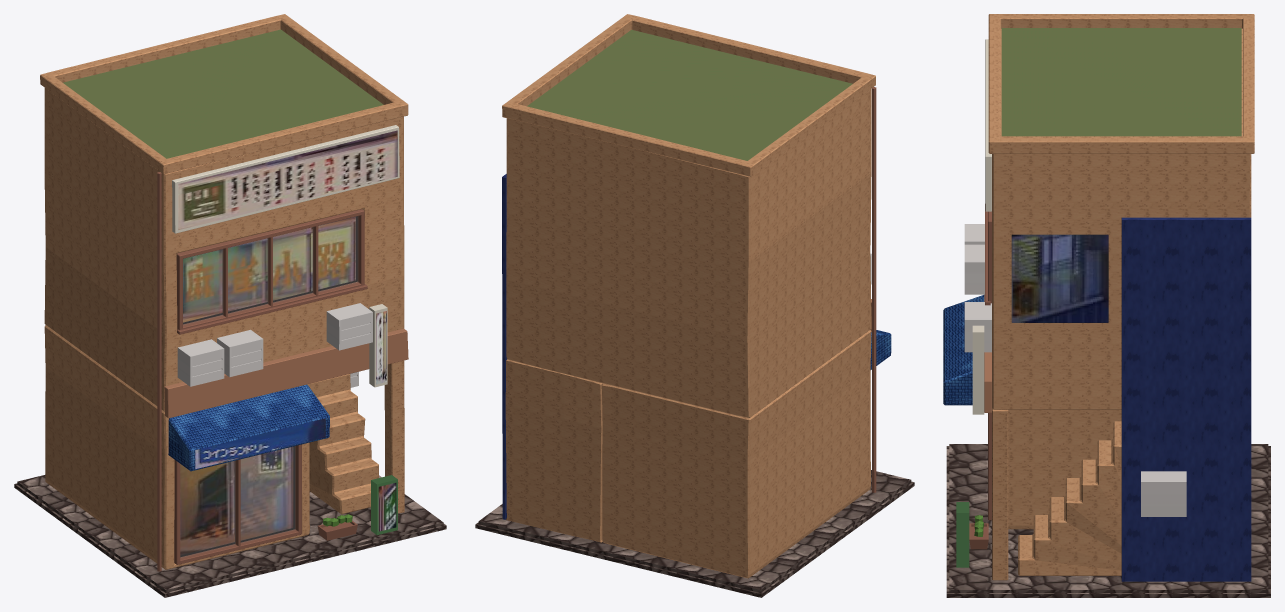
Rendered from laundry.glb.
3 renders of one model, left to right at view 1: azimuth 30°, elevation 25°; view 2: azimuth 150°, elevation 25°; view 3: azimuth 270°, elevation 25°, orthographic. The views are drawn at different scales.
Visible parts, largest first — view 1: laundry_upper_shell, laundry_roof_pad, laundry_gf_shell, laundry_platform, laundry_coping, laundry_top_sign_art, laundry_mahjong_art, laundry_laundry_interior_art, laundry_mahjong_glass, laundry_laundry_glass, laundry_fascia, laundry_stairs (+15 smaller); view 2: laundry_upper_shell, laundry_gf_shell, laundry_roof_pad, laundry_gf_back, laundry_coping, laundry_platform, laundry_downpipe, laundry_side_cladding; view 3: laundry_side_cladding, laundry_upper_shell, laundry_roof_pad, laundry_platform, laundry_coping, laundry_stairs, laundry_gf_shell, laundry_side_window_art, laundry_corner_pillar, laundry_awning, laundry_ac_side, laundry_vert_sign (+8 smaller).
Part boxes in pixels (x1=…): laundry_upper_shell: x1=44, y1=88, x2=404, y2=411; laundry_roof_pad: x1=63, y1=29, x2=383, y2=158; laundry_gf_shell: x1=44, y1=325, x2=310, y2=569; laundry_platform: x1=14, y1=475, x2=446, y2=597; laundry_coping: x1=40, y1=14, x2=408, y2=174; laundry_top_sign_art: x1=178, y1=130, x2=397, y2=229; laundry_mahjong_art: x1=183, y1=216, x2=355, y2=322; laundry_laundry_interior_art: x1=180, y1=446, x2=293, y2=555; laundry_mahjong_glass: x1=183, y1=217, x2=357, y2=324; laundry_laundry_glass: x1=181, y1=446, x2=295, y2=557; laundry_fascia: x1=164, y1=328, x2=408, y2=418; laundry_stairs: x1=309, y1=374, x2=378, y2=514; laundry_upper_shell: x1=506, y1=88, x2=871, y2=417; laundry_gf_shell: x1=601, y1=330, x2=871, y2=578; laundry_roof_pad: x1=527, y1=29, x2=852, y2=160; laundry_gf_back: x1=505, y1=359, x2=602, y2=542; laundry_coping: x1=502, y1=14, x2=875, y2=176; laundry_platform: x1=475, y1=470, x2=914, y2=597; laundry_downpipe: x1=872, y1=87, x2=876, y2=492; laundry_side_cladding: x1=502, y1=174, x2=507, y2=519; laundry_side_cladding: x1=1121, y1=217, x2=1251, y2=581; laundry_upper_shell: x1=992, y1=28, x2=1251, y2=409; laundry_roof_pad: x1=1001, y1=28, x2=1241, y2=136; laundry_platform: x1=946, y1=444, x2=1270, y2=597; laundry_coping: x1=988, y1=14, x2=1254, y2=153; laundry_stairs: x1=1018, y1=421, x2=1121, y2=575; laundry_gf_shell: x1=1008, y1=409, x2=1121, y2=529; laundry_side_window_art: x1=1011, y1=234, x2=1108, y2=322; laundry_corner_pillar: x1=992, y1=408, x2=1008, y2=580; laundry_awning: x1=943, y1=295, x2=984, y2=405; laundry_ac_side: x1=1141, y1=471, x2=1186, y2=516; laundry_vert_sign: x1=972, y1=325, x2=984, y2=414.
Bounding box in the file's own units: 5.45 × 7.61 × 5.05.
Materials: 8 (7 with a texture image).
